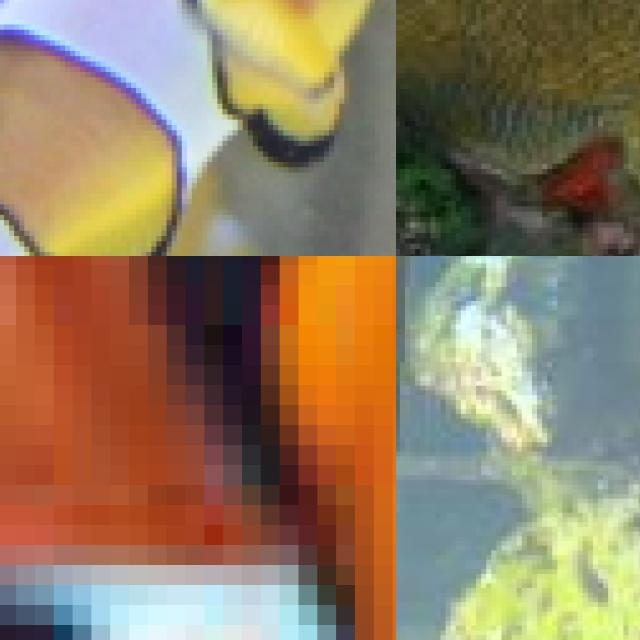fish: (0, 256, 396, 640), (0, 0, 396, 256)
